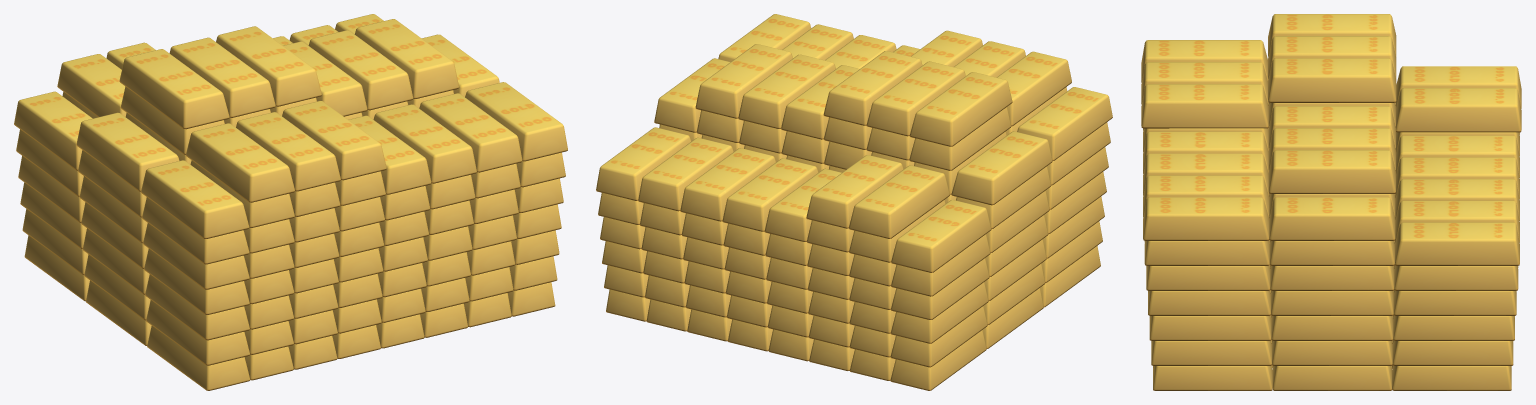
Rendered from BankGoldBars01_2.FBX.
3 renders of one model, left to right at view 1: azimuth 30°, elevation 25°; view 2: azimuth 150°, elevation 25°; view 3: azimuth 270°, elevation 25°, orthographic. The views are drawn at different scales.
Parts seen in each view (by area): view 1: BankGoldBars01_2; view 2: BankGoldBars01_2; view 3: BankGoldBars01_2.
Part boxes in pixels (x1,y1,x2,y2): BankGoldBars01_2: [14, 14, 567, 390]; BankGoldBars01_2: [596, 14, 1112, 390]; BankGoldBars01_2: [1141, 14, 1521, 390].
Size of what is drawn, in the model's own units: 1.33 by 0.8243 by 1.23.
